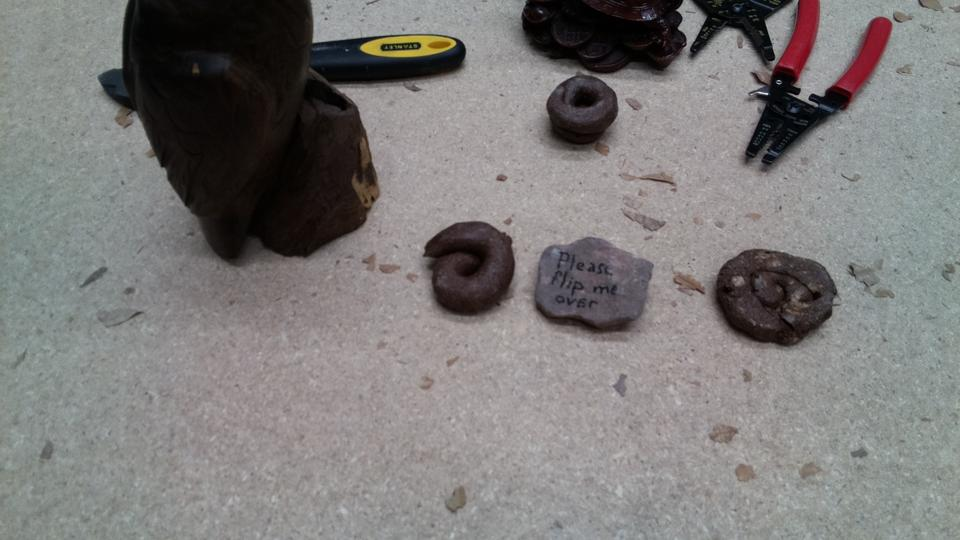poop: (709, 244, 842, 350), (419, 219, 517, 319), (542, 71, 625, 148)
